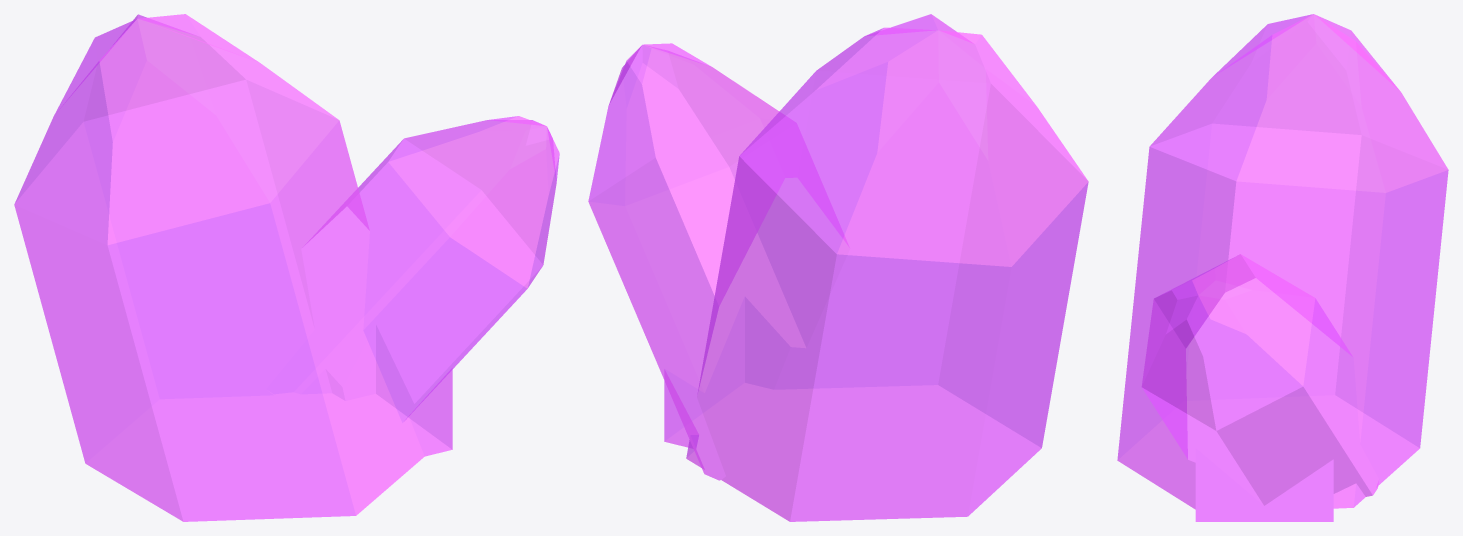
Rendered from Rock_Candy_Twin_Shard.fbx.
3 views of the same model, side by side, from view 1: azimuth 30°, elevation 25°; view 2: azimuth 150°, elevation 25°; view 3: azimuth 270°, elevation 25° (orthographic). The views are drawn at different scales.
Parts seen in each view (by area): view 1: Rock candy twin shard; view 2: Rock candy twin shard; view 3: Rock candy twin shard.
Part boxes in pixels (x1,y1,x2,y2): Rock candy twin shard: (14,14,559,521); Rock candy twin shard: (588,14,1088,521); Rock candy twin shard: (1117,14,1448,521).
Size of the model in its own units: 3.12 by 2.91 by 2.19.
